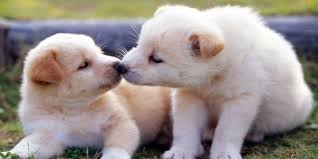dog: (121, 1, 229, 99), (19, 22, 122, 115)
